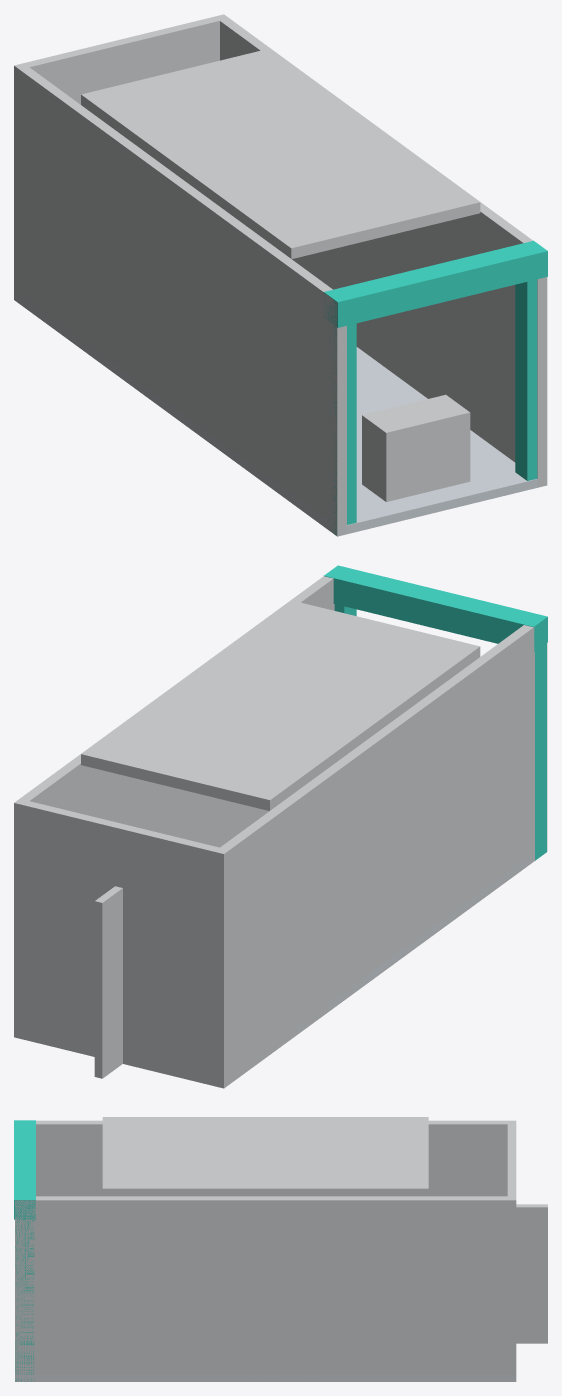
3 renders of one model, top to bottom at view 1: azimuth 30°, elevation 25°; view 2: azimuth 150°, elevation 25°; view 3: azimuth 270°, elevation 25°, orthographic. The views are drawn at different scales.
Visible parts, largest first — view 1: Exhibition Booth Concept; view 2: Exhibition Booth Concept; view 3: Exhibition Booth Concept.
Part boxes in pixels (x1,y1,x2,y2): Exhibition Booth Concept: (14, 14, 547, 536); Exhibition Booth Concept: (14, 565, 547, 1088); Exhibition Booth Concept: (14, 1117, 547, 1381).
Size of the model in its own units: 3 by 3.34 by 8.52.
